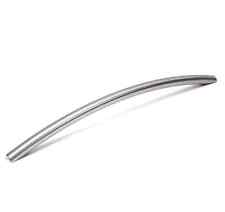handle: (8, 38, 217, 156)
